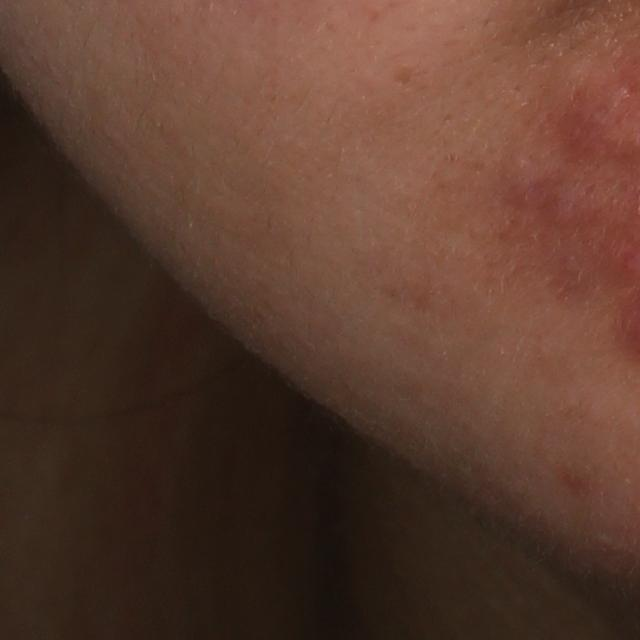papule: (543, 173, 594, 235), (499, 153, 547, 208)
